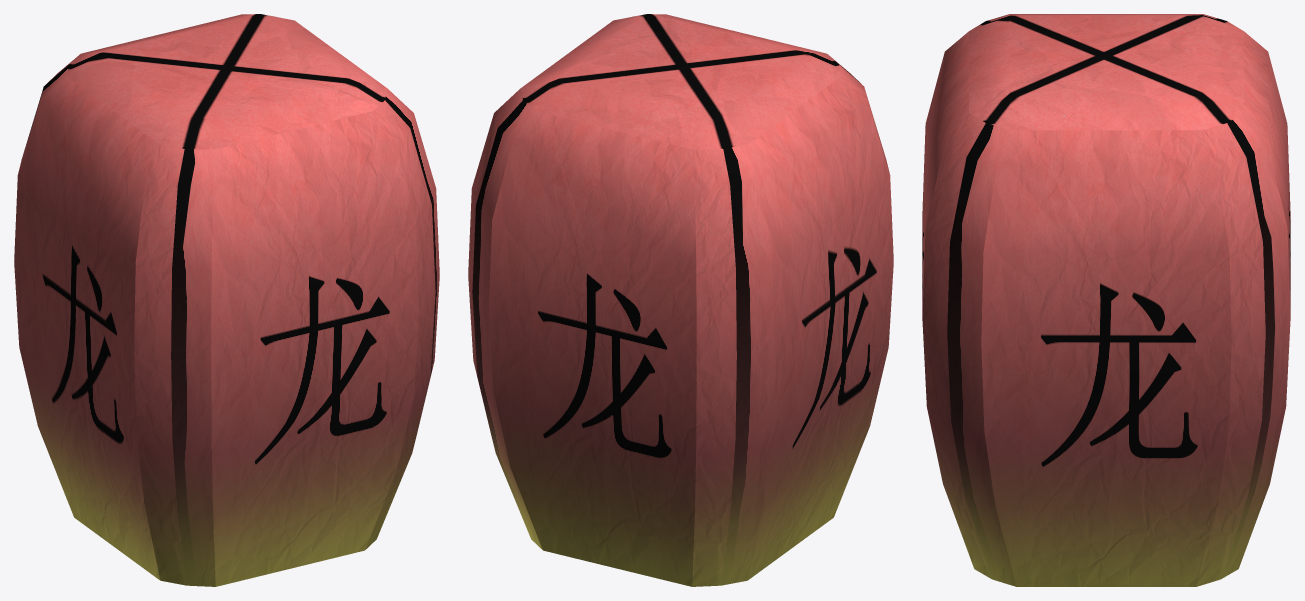
File: lanterna_volante.obj
The picture shows the model from 3 angles, left to right: view 1: azimuth 30°, elevation 25°; view 2: azimuth 150°, elevation 25°; view 3: azimuth 270°, elevation 25°; orthographic projection. The views are drawn at different scales.
Visible parts, largest first — view 1: lanterna_Cube.000; view 2: lanterna_Cube.000; view 3: lanterna_Cube.000.
Boxes of the visible parts, <box> form: lanterna_Cube.000: <box>14,14,439,586</box>; lanterna_Cube.000: <box>468,14,893,586</box>; lanterna_Cube.000: <box>922,14,1290,586</box>.
Size of the model in its own units: 1.31 by 1.87 by 1.31.
Materials: 1 (1 with a texture image).
